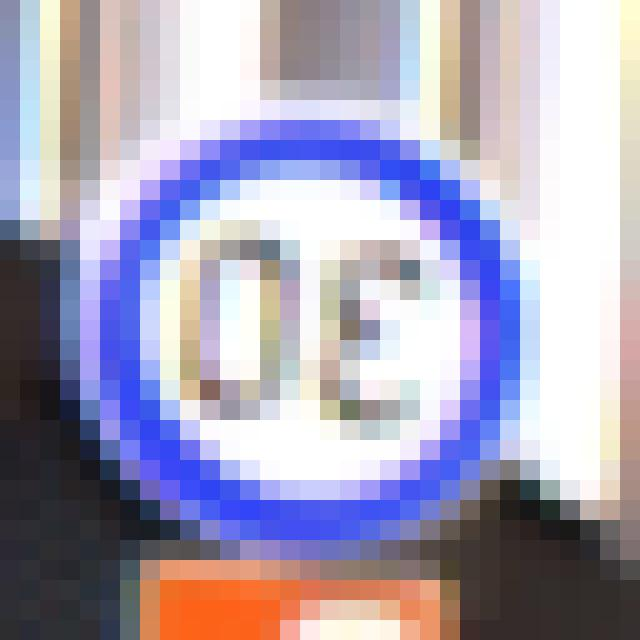SPEED LIMIT 30: (82, 86, 554, 538)
